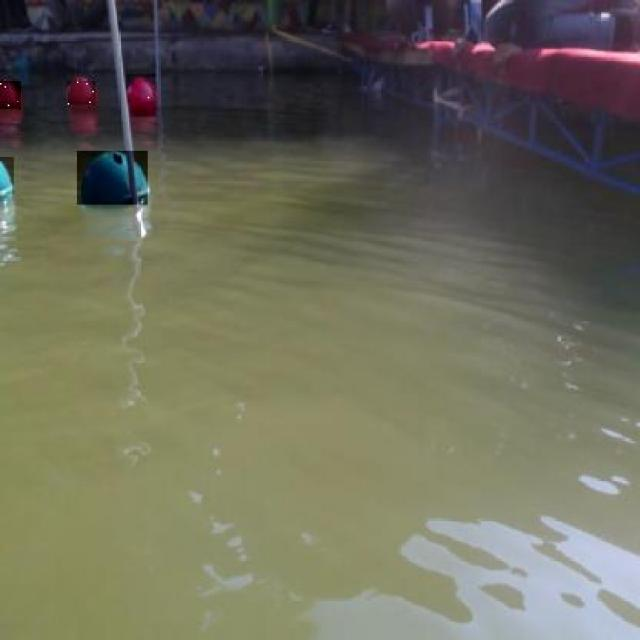green_ball: (77, 152, 149, 205), (0, 154, 14, 201)
red_ball: (119, 76, 158, 113), (62, 76, 96, 114), (0, 72, 24, 119)
